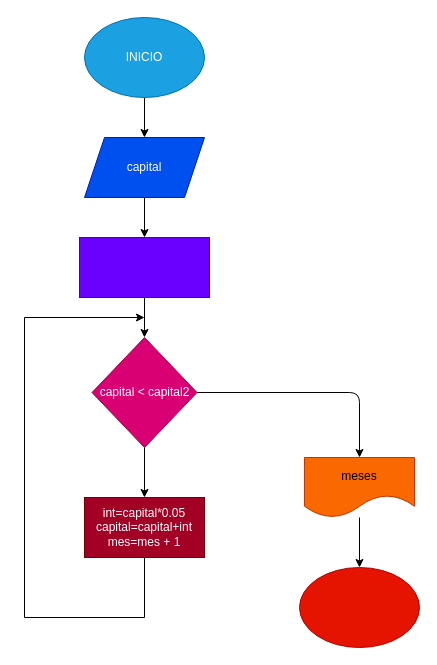
This 437x665 diagram has some shape labels left out. Each missing label, with the centre of its shape:
FIN: pixel 359 607
int=0 mes=0 capital2=capital+capital: pixel 144 267
